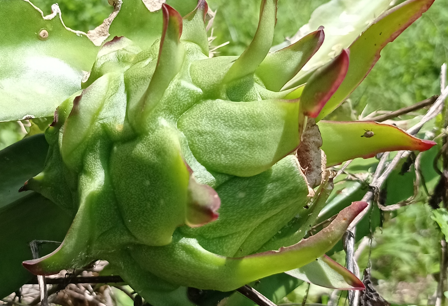Belum Matang: (34, 21, 369, 270)
